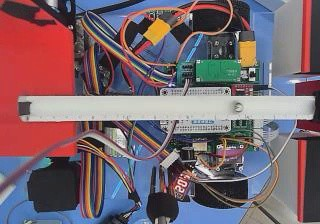ironball: (232, 101, 242, 112)
